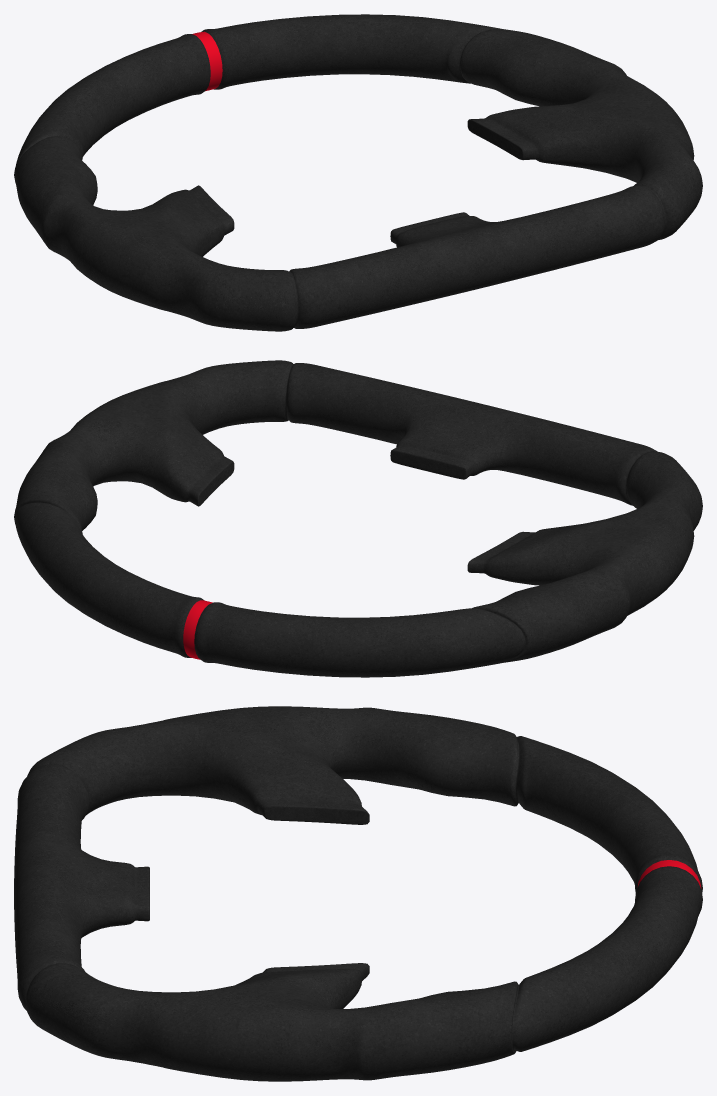
Rendered from leatherRim.glb.
3 views of the same model, one above another, from view 1: azimuth 30°, elevation 25°; view 2: azimuth 150°, elevation 25°; view 3: azimuth 270°, elevation 25° (orthographic). The views are drawn at different scales.
Visible parts, largest first — view 1: Circle.003, Circle.004; view 2: Circle.003, Circle.004; view 3: Circle.003.
Boxes of the visible parts, box(x1,y1,x2,y2) form: Circle.003: box(14, 14, 702, 331); Circle.004: box(192, 31, 222, 91); Circle.003: box(14, 360, 702, 677); Circle.004: box(183, 600, 212, 659); Circle.003: box(14, 706, 702, 1081).
Bounding box in the file's own units: 333 × 33.05 × 293.
2 materials, 1 textured.
